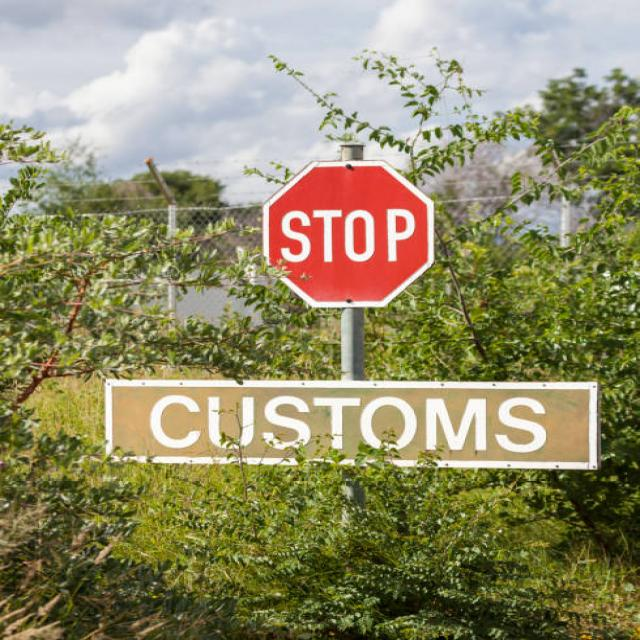stop: (255, 160, 442, 312)
